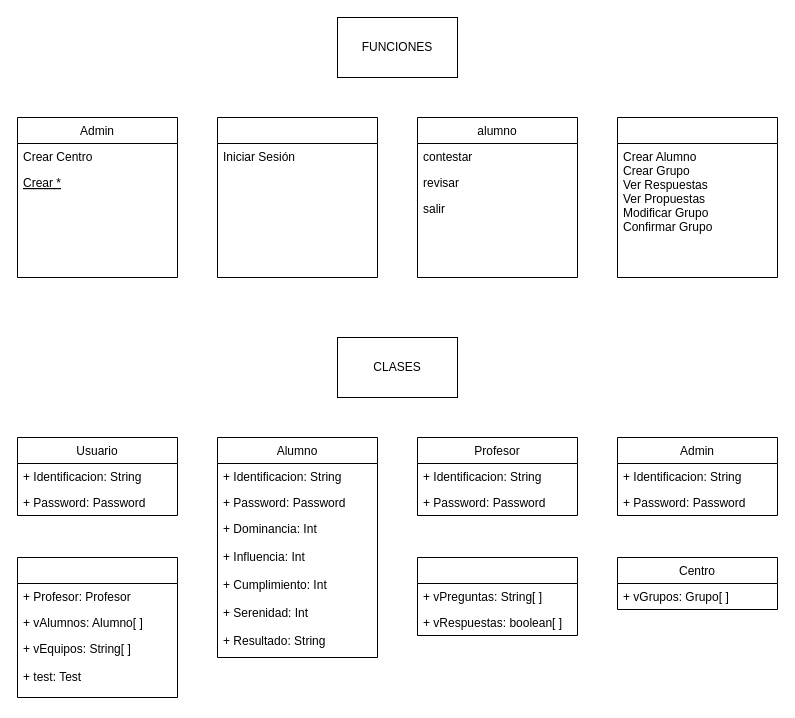
The diagram is 795 pixels wide and 718 high, and some of its shapes have lost their labels. Each missing label, with the box of its shape:
Grupo: (16, 556, 178, 698)
LOGIN: (216, 116, 378, 278)
Professor: (616, 116, 778, 278)
Test: (416, 556, 578, 636)
